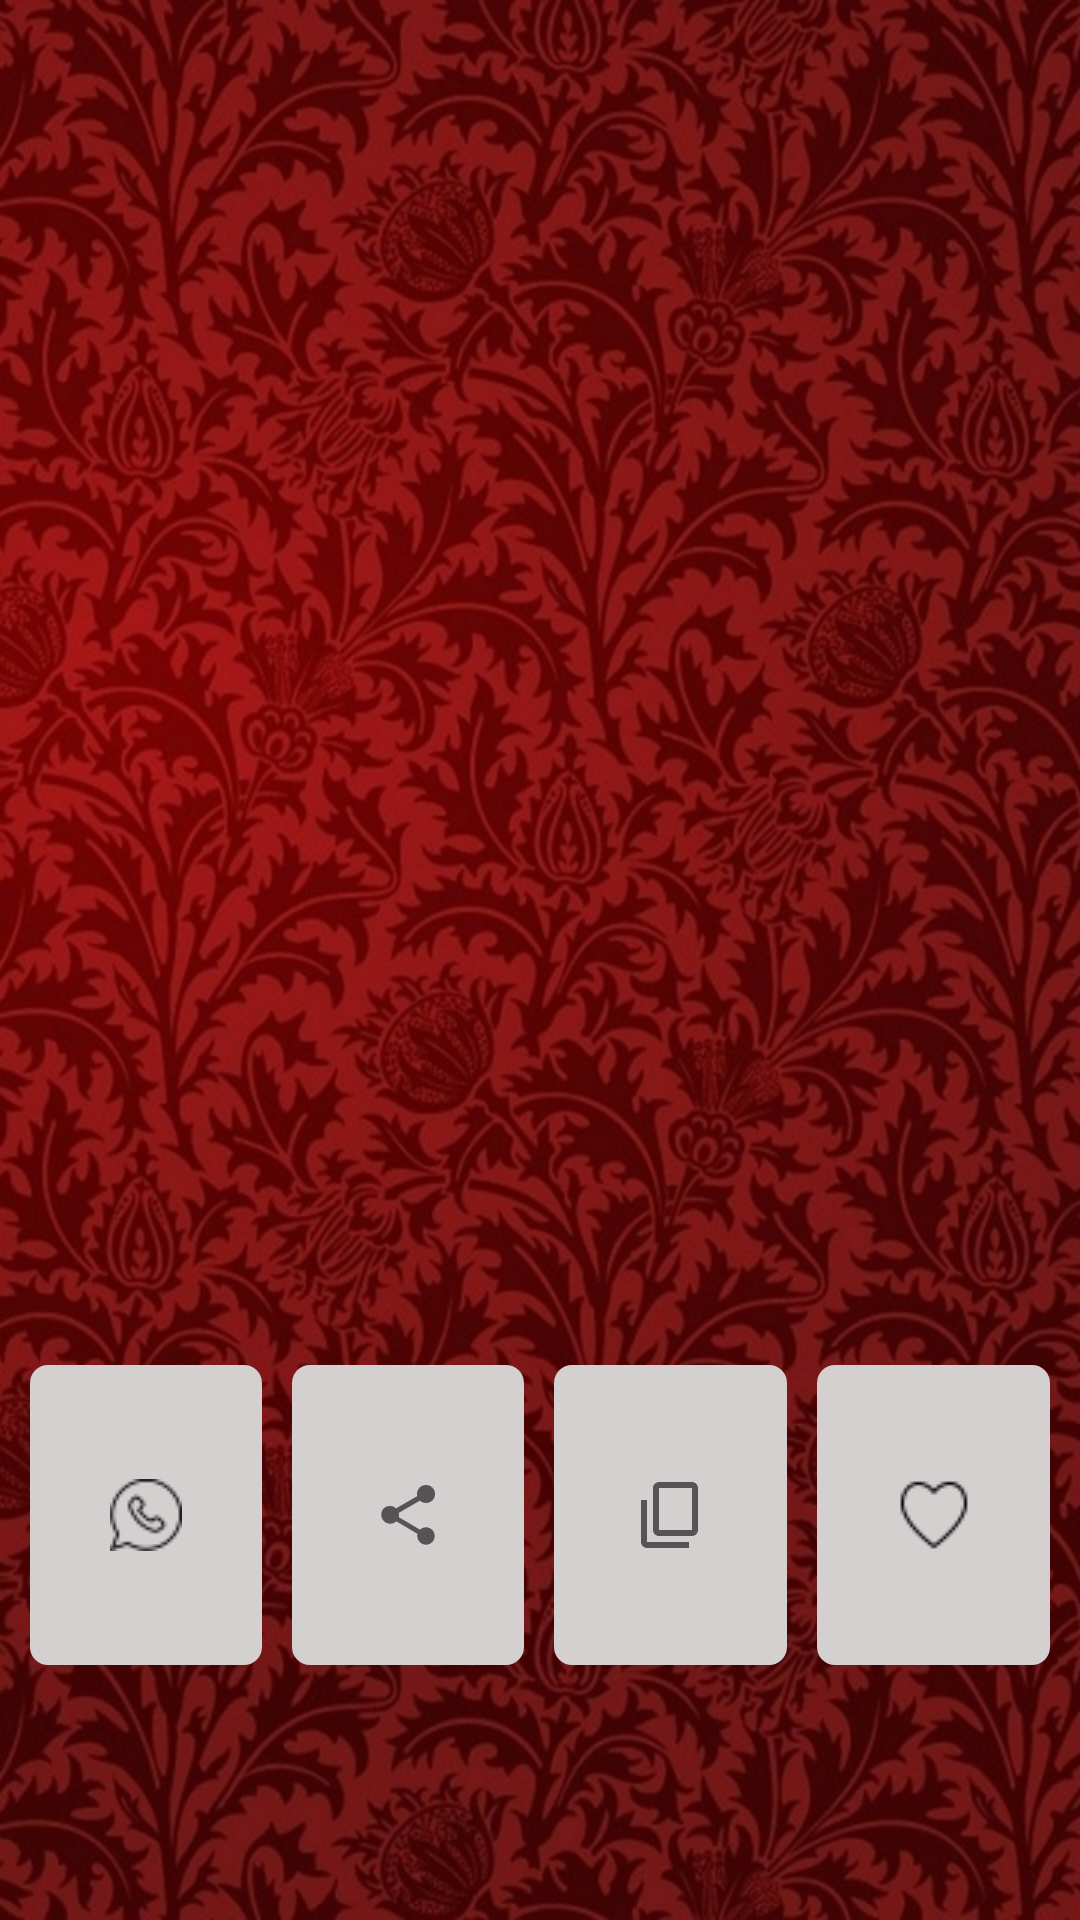

Icon click points for this 1080 x 1920 phone screenshot, format point (x, y):
favourite: point (933, 1515)
